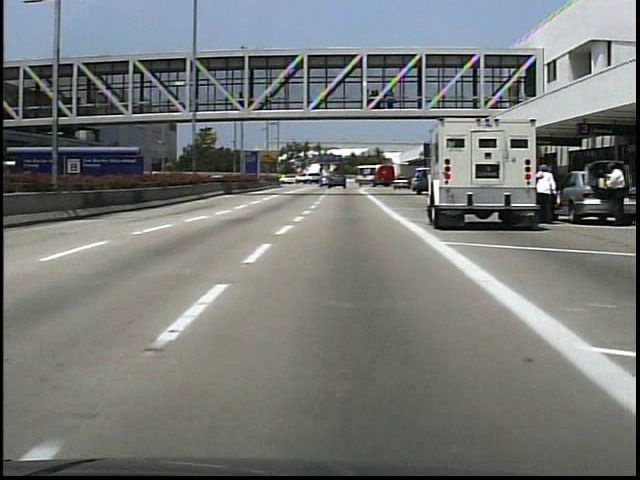person: (603, 162, 629, 229), (534, 158, 557, 227)
